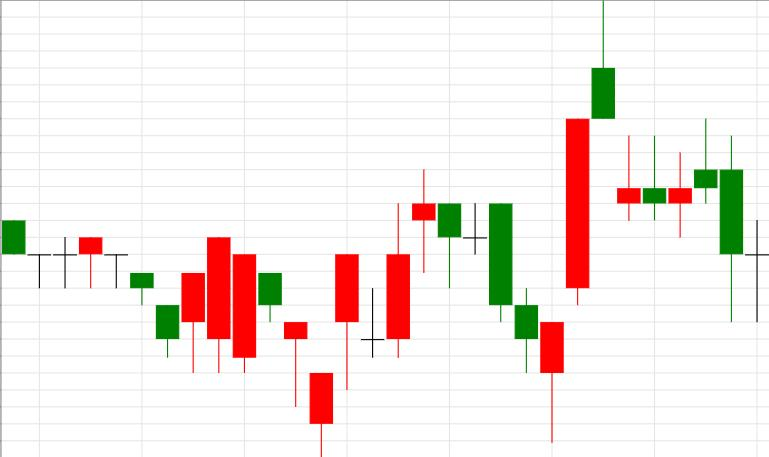hammer_rise: (438, 204, 564, 443)
